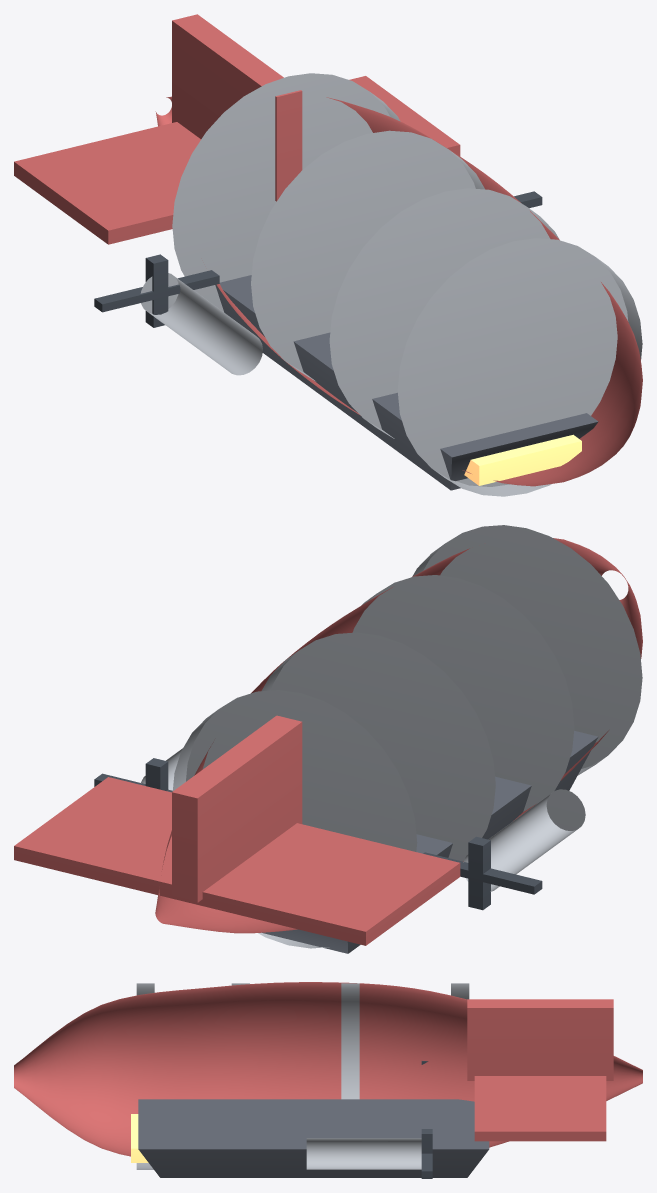
The model's file is zep.glb.
3 views of the same model, one above another, from view 1: azimuth 30°, elevation 25°; view 2: azimuth 150°, elevation 25°; view 3: azimuth 270°, elevation 25° (orthographic). The views are drawn at different scales.
Parts seen in each view (by area): view 1: Hull; view 2: Hull; view 3: Hull.
Boxes of the visible parts, left/top/right/bottom form: Hull: left=14, top=14, right=642, bottom=496; Hull: left=14, top=525, right=642, bottom=953; Hull: left=14, top=982, right=642, bottom=1178.
Bounding box in the file's own units: 2.52 × 1.35 × 4.47.
